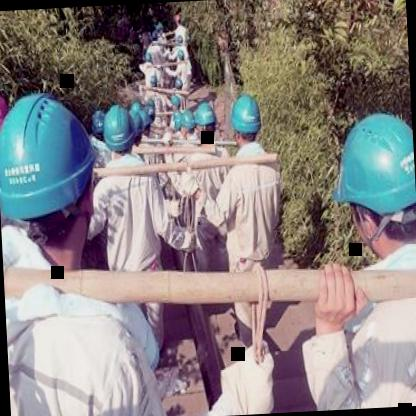helmet: (0, 79, 105, 262), (321, 98, 416, 267), (228, 89, 262, 148), (100, 102, 136, 155), (194, 98, 219, 144), (125, 106, 144, 144), (180, 106, 198, 140), (0, 82, 7, 147)
